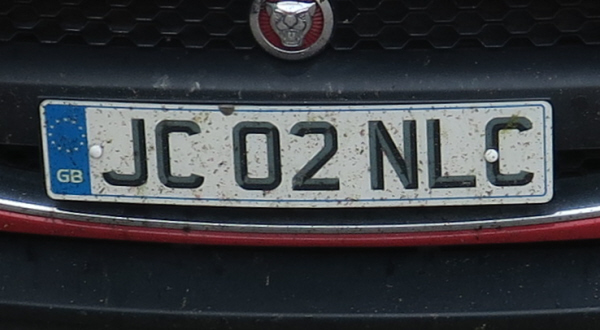license_plate: (37, 98, 557, 206)
